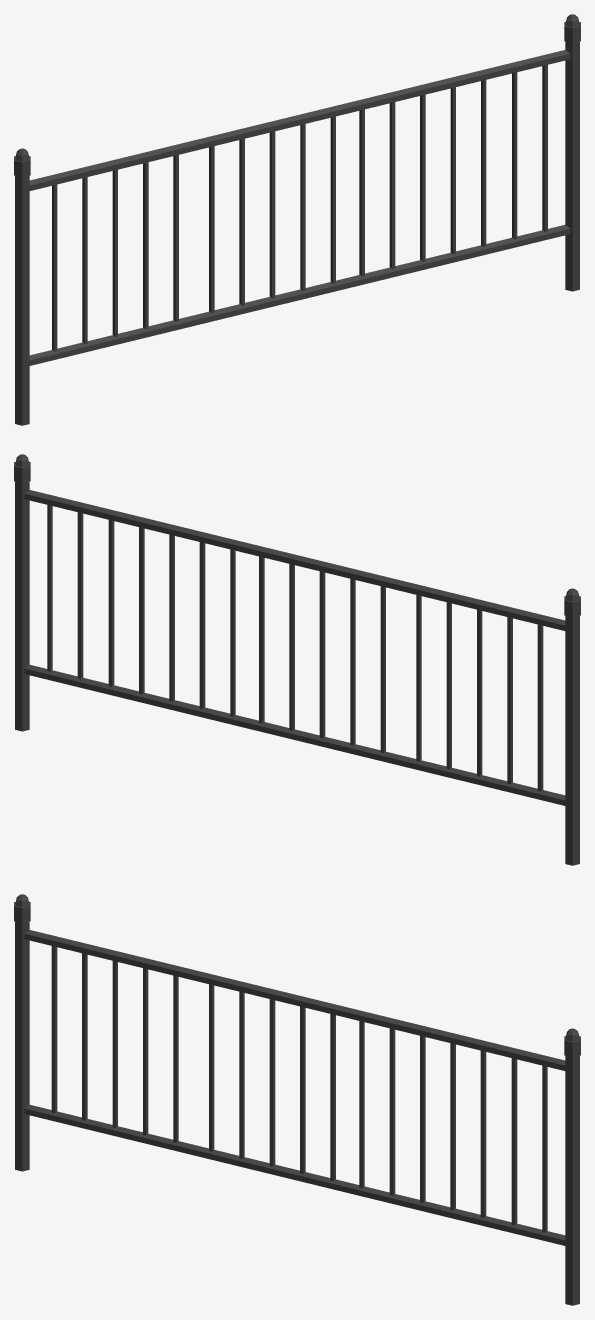
The model's file is SM_fence_02.fbx.
3 renders of one model, top to bottom at view 1: azimuth 30°, elevation 25°; view 2: azimuth 150°, elevation 25°; view 3: azimuth 330°, elevation 25°, orthographic.
Parts seen in each view (by area): view 1: Box101; view 2: Box101; view 3: Box101.
Part boxes in pixels (x1,y1,x2,y2): Box101: (14,14,580,425); Box101: (14,454,580,865); Box101: (14,894,580,1305).
Bounding box in the file's own units: 100 × 2.58 × 46.11.
